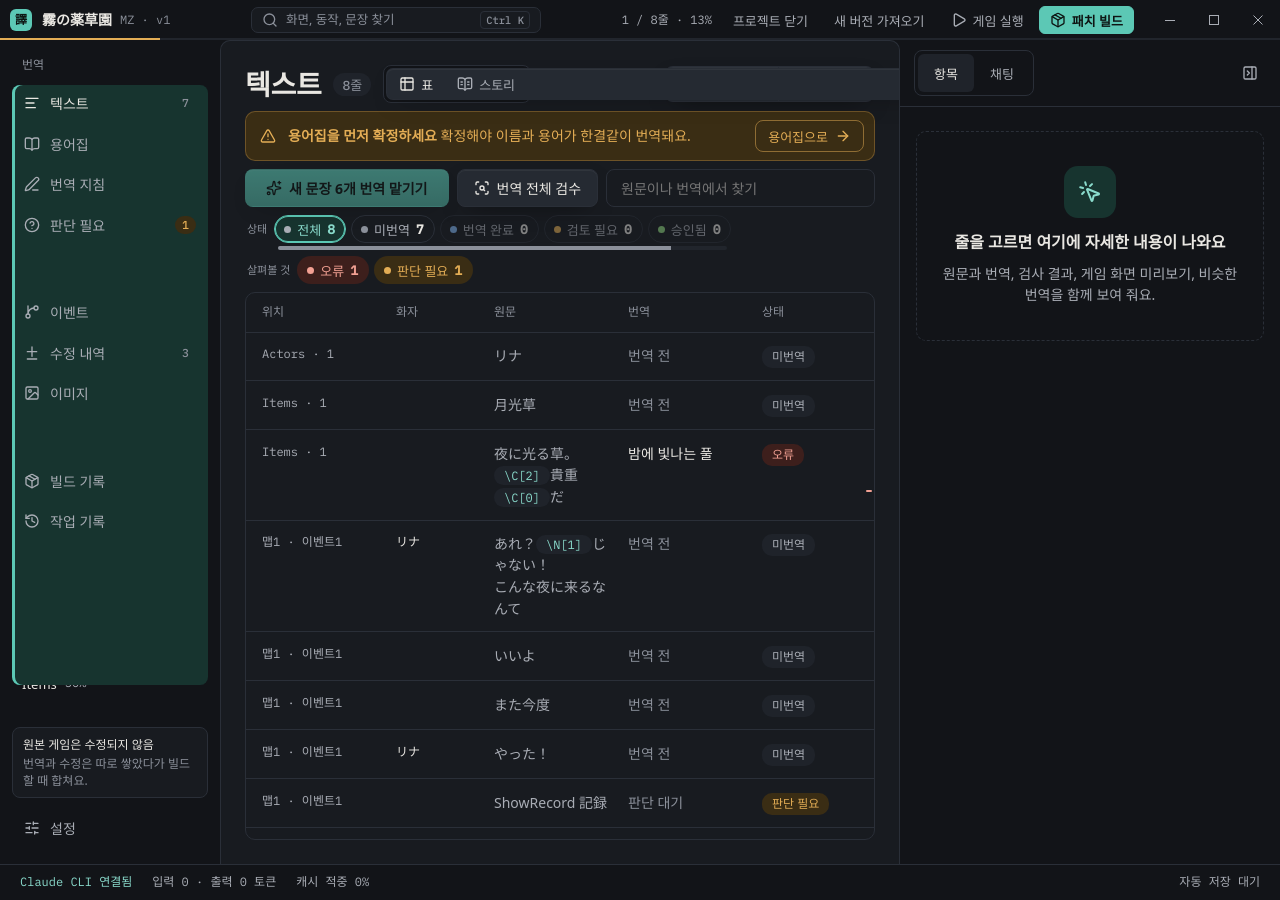
제작자 전달용 목록
Expected: the text "霧の薬草園" is shown, x1=42 y1=9 x2=112 y2=31
Step 1. Click the button "수정 내역 3" → (110, 353), box x1=12 y1=334 x2=208 y2=371
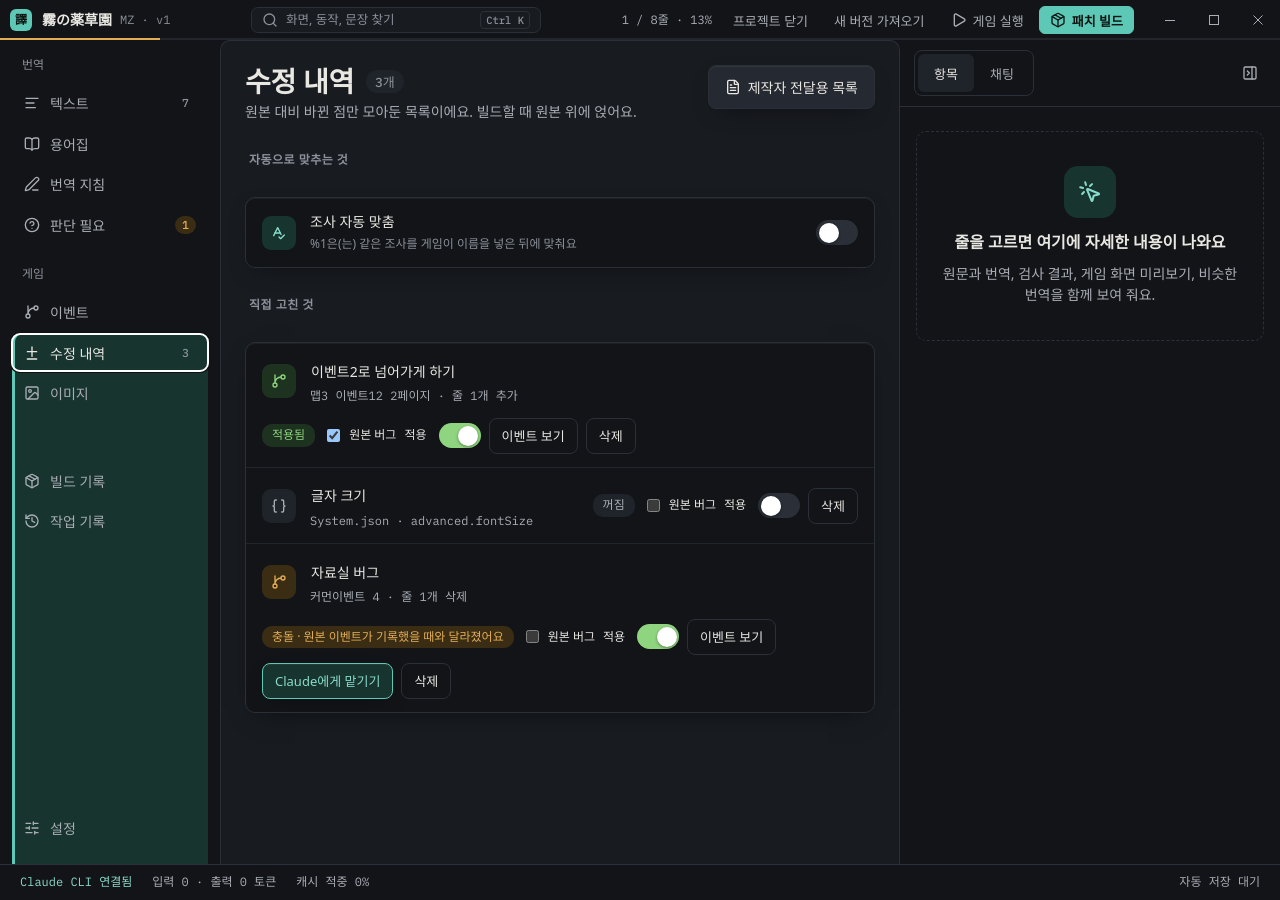
Expected: the heading "수정 내역" is shown, x1=245 y1=65 x2=354 y2=97
Step 2. Click the button "제작자 전달용 목록" → (791, 87), box x1=708 y1=65 x2=875 y2=109
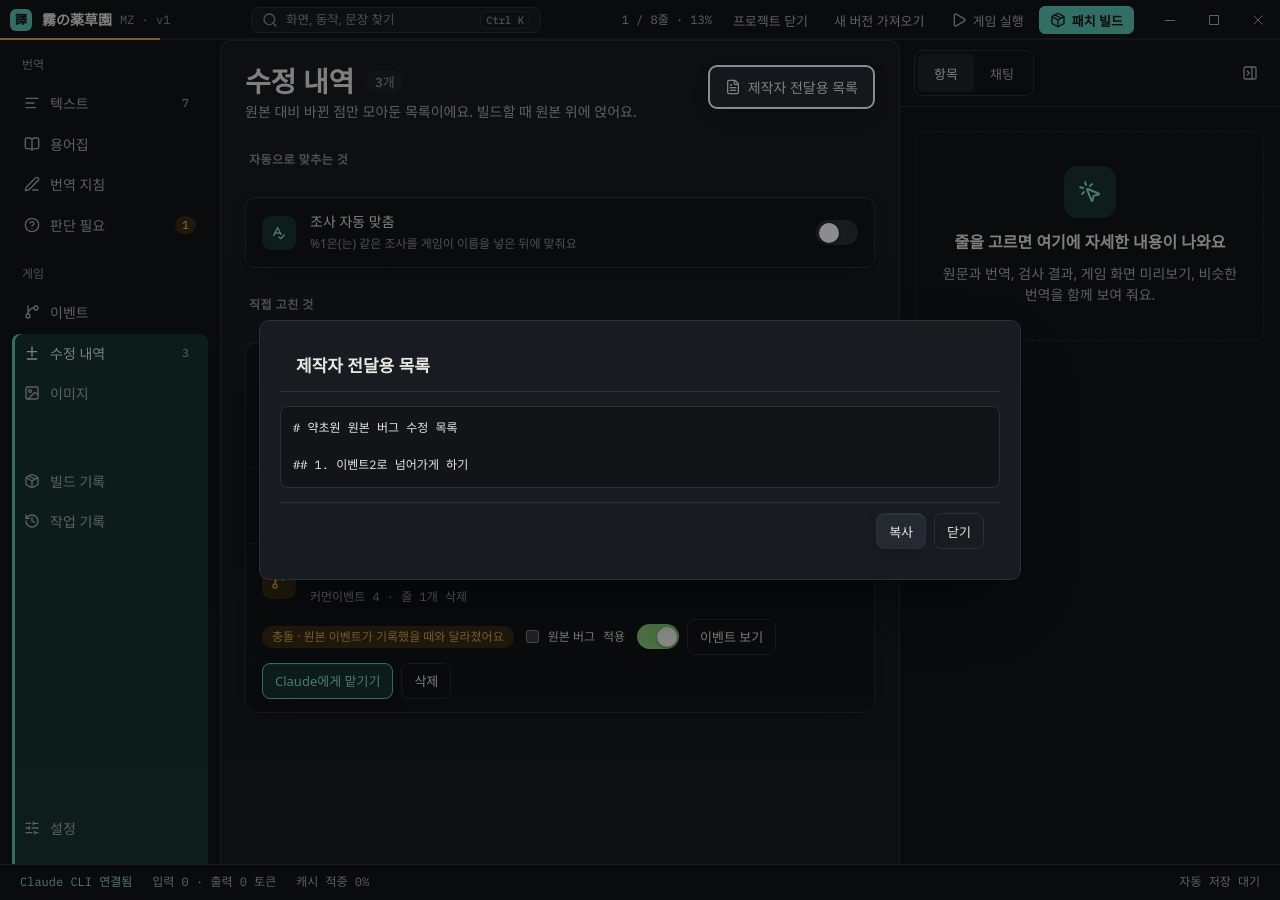
Expected: the text "# 약초원 원본 버그 수정 목록 ## 1. 이벤트2로 넘어가게 하기" is shown, x1=280 y1=406 x2=1000 y2=488
Expected: the button "복사" is shown, x1=876 y1=513 x2=926 y2=549
